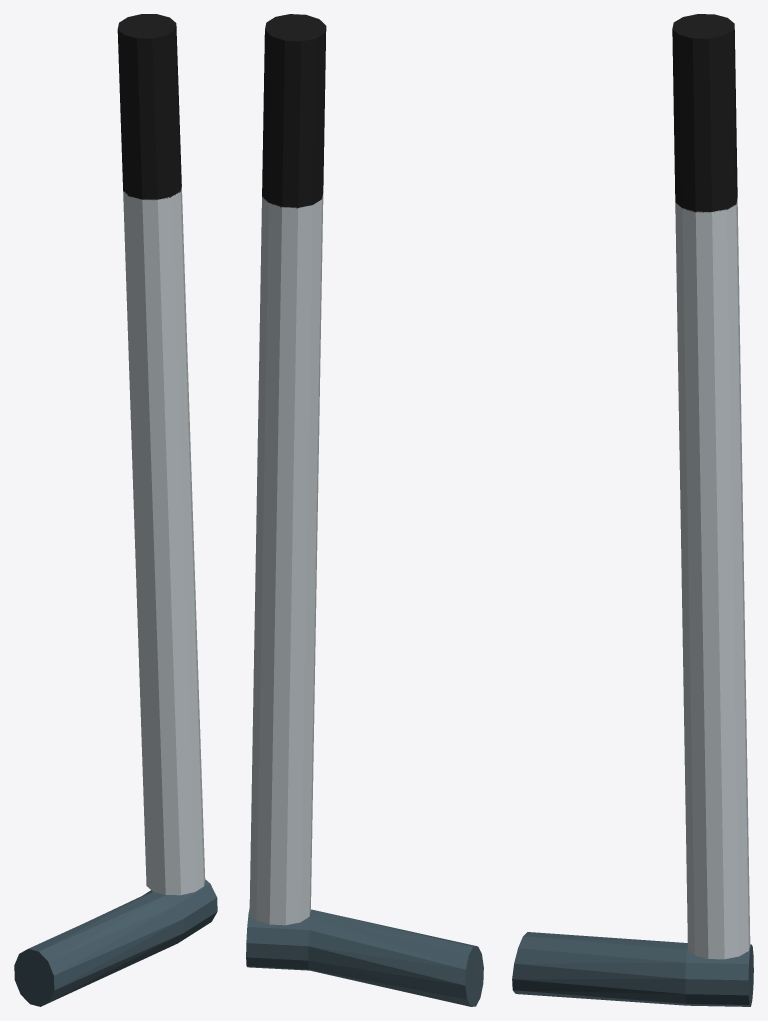
Rendered from Putter.fbx.
3 renders of one model, left to right at view 1: azimuth 30°, elevation 25°; view 2: azimuth 150°, elevation 25°; view 3: azimuth 330°, elevation 25°, orthographic. The views are drawn at different scales.
Parts seen in each view (by area): view 1: mesh_2130815462, mesh_108195392, mesh_1242448487, mesh_1157316714, mesh_1933498453, mesh_1945136445, mesh_1332519179, mesh_1581758770, mesh_459874952; view 2: mesh_2130815462, mesh_108195392, mesh_1242448487, mesh_1157316714, mesh_1581758770, mesh_1933498453, mesh_1332519179, mesh_1945136445, mesh_459874952; view 3: mesh_108195392, mesh_2130815462, mesh_1242448487, mesh_1157316714, mesh_1945136445, mesh_1933498453, mesh_1332519179, mesh_1581758770, mesh_459874952.
Part boxes in pixels (bbox=[...]): mesh_2130815462: bbox=[123, 186, 190, 466]; mesh_108195392: bbox=[137, 614, 205, 895]; mesh_1242448487: bbox=[14, 879, 217, 1006]; mesh_1157316714: bbox=[117, 14, 178, 92]; mesh_1933498453: bbox=[132, 452, 192, 520]; mesh_1945136445: bbox=[119, 78, 179, 146]; mesh_1332519179: bbox=[134, 506, 194, 574]; mesh_1581758770: bbox=[135, 560, 196, 628]; mesh_459874952: bbox=[121, 132, 181, 199]; mesh_2130815462: bbox=[257, 193, 323, 482]; mesh_108195392: bbox=[249, 636, 315, 925]; mesh_1242448487: bbox=[246, 908, 483, 1006]; mesh_1157316714: bbox=[264, 14, 326, 97]; mesh_1581758770: bbox=[254, 580, 316, 650]; mesh_1933498453: bbox=[256, 468, 318, 538]; mesh_1332519179: bbox=[255, 524, 317, 594]; mesh_1945136445: bbox=[263, 82, 325, 152]; mesh_459874952: bbox=[262, 138, 324, 208]; mesh_108195392: bbox=[683, 659, 750, 959]; mesh_2130815462: bbox=[675, 198, 742, 498]; mesh_1242448487: bbox=[512, 932, 753, 1006]; mesh_1157316714: bbox=[672, 14, 735, 96]; mesh_1945136445: bbox=[673, 83, 736, 154]; mesh_1933498453: bbox=[680, 484, 743, 556]; mesh_1332519179: bbox=[681, 542, 744, 614]; mesh_1581758770: bbox=[682, 601, 745, 672]; mesh_459874952: bbox=[674, 141, 737, 212].
Size of the model in its own units: 79.28 by 341 by 39.2.
